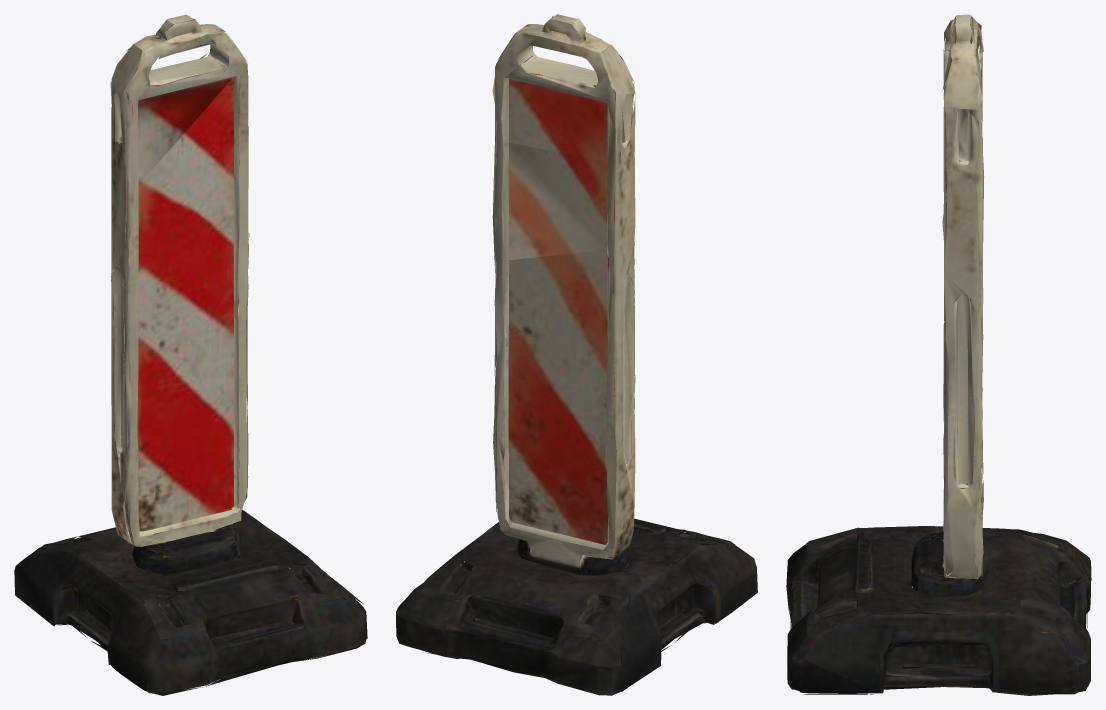
File: stadt_bake.glb
3 views of the same model, side by side, from view 1: azimuth 30°, elevation 25°; view 2: azimuth 150°, elevation 25°; view 3: azimuth 270°, elevation 25° (orthographic). The views are drawn at different scales.
Visible parts, largest first — view 1: Prop; view 2: Prop; view 3: Prop.
Part boxes in pixels (x1,y1,x2,y2): Prop: [14, 14, 367, 695]; Prop: [396, 14, 757, 695]; Prop: [786, 14, 1091, 695].
Bounding box in the file's own units: 0.3948 × 1 × 0.4456.
1 material, 1 textured.
